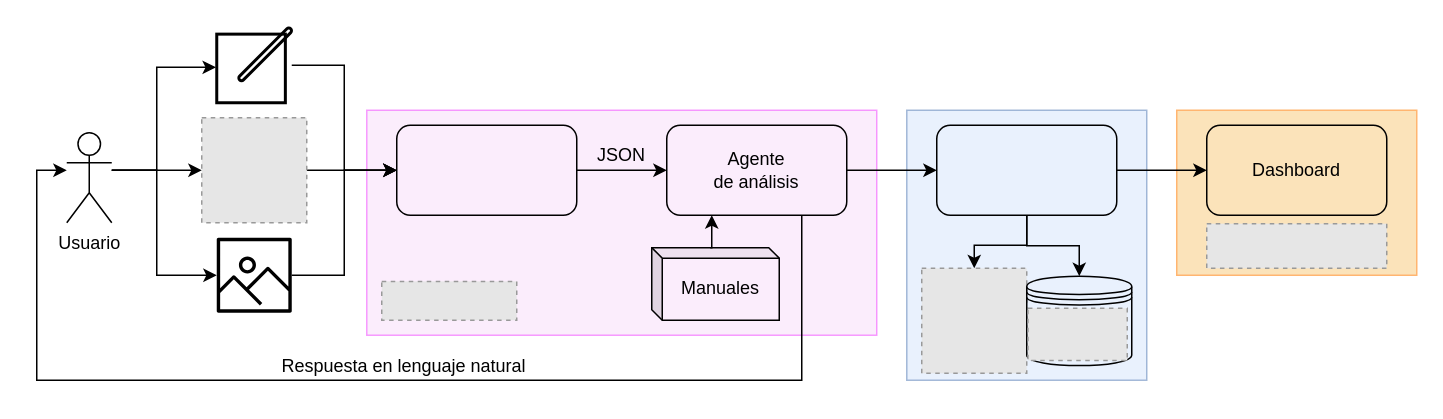
Some shapes in this 1443 by 419 pixel diagram are drawn without their labels. Grey dashed boxes stand in for pictures. The box of each missing label's shape, as (x1, y1, x2, y2) in pixels:
Agente de ingesta: (395, 124, 577, 215)
Registro de incidencias: (935, 124, 1117, 215)
